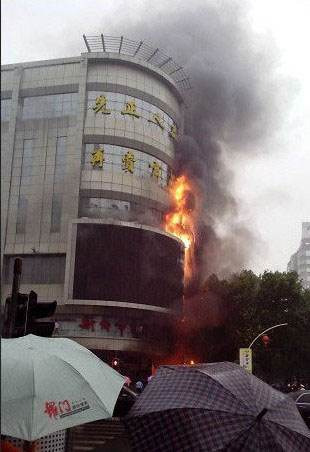fire: (170, 172, 209, 292)
